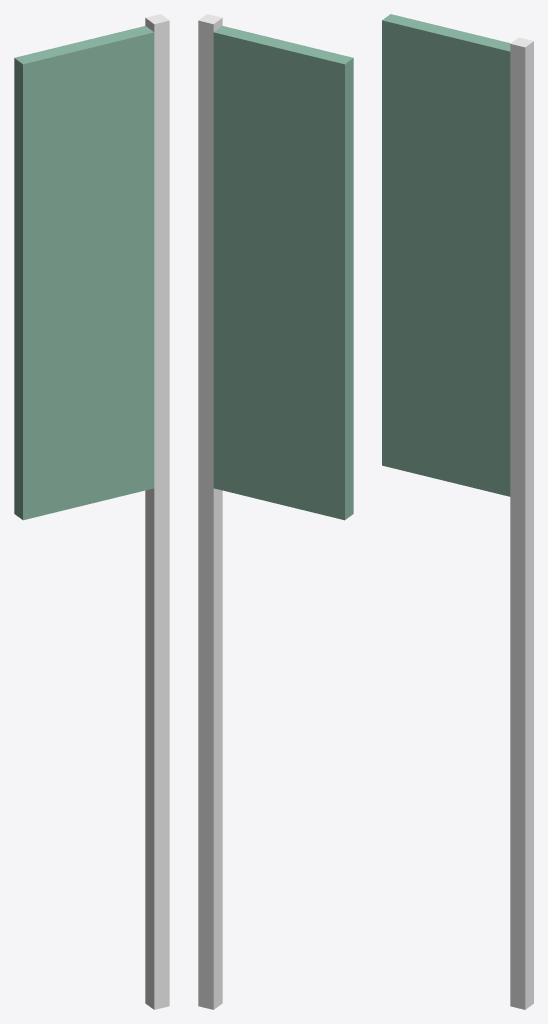
File: flag-green.glb
3 renders of one model, left to right at view 1: azimuth 30°, elevation 25°; view 2: azimuth 150°, elevation 25°; view 3: azimuth 330°, elevation 25°, orthographic. The views are drawn at different scales.
Parts seen in each view (by area): view 1: flagGreen; view 2: flagGreen; view 3: flagGreen.
Boxes of the visible parts, x1=… form: flagGreen: x1=14, y1=14, x2=169, y2=1009; flagGreen: x1=198, y1=14, x2=353, y2=1009; flagGreen: x1=382, y1=14, x2=533, y2=1009.
Size of the model in its own units: 1.14 by 7.32 by 0.1197.
